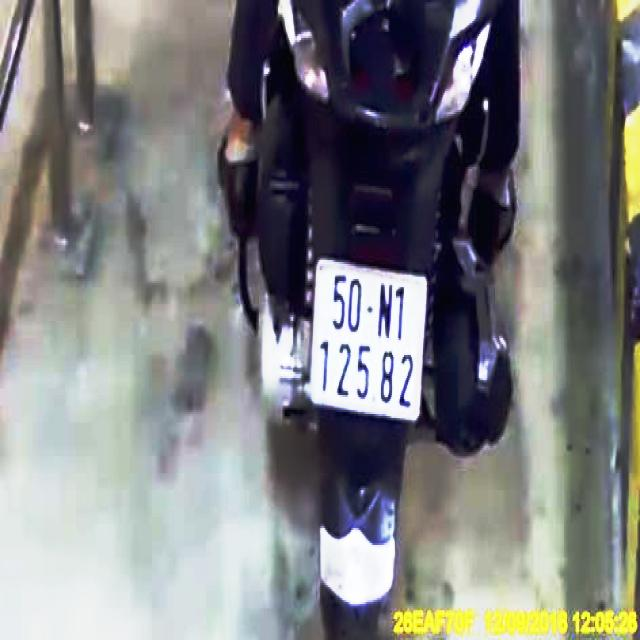license_plate: (314, 263, 424, 421)
